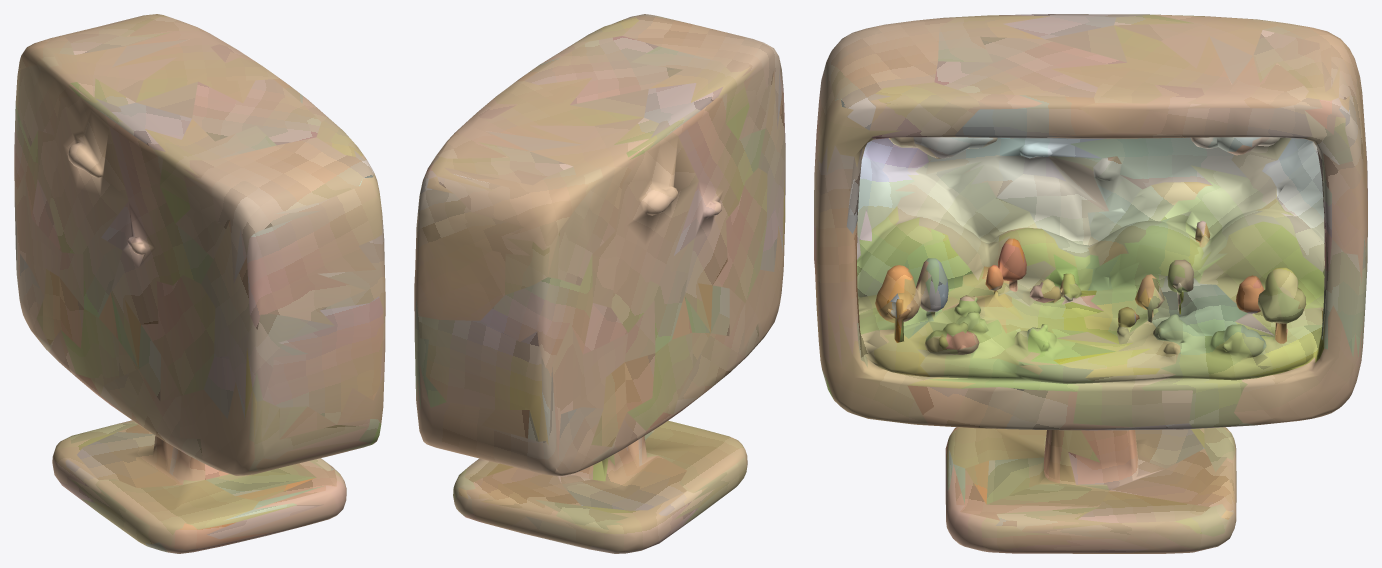
Rendered from JP_사물_s2_office_monitor.glb.
3 views of the same model, side by side, from view 1: azimuth 30°, elevation 25°; view 2: azimuth 150°, elevation 25°; view 3: azimuth 270°, elevation 25° (orthographic). The views are drawn at different scales.
Visible parts, largest first — view 1: tripo_node_d5ec6751-cbea-439b-92c2-5a07a2505e09; view 2: tripo_node_d5ec6751-cbea-439b-92c2-5a07a2505e09; view 3: tripo_node_d5ec6751-cbea-439b-92c2-5a07a2505e09.
Boxes of the visible parts, x1,y1,x2,y2 form: tripo_node_d5ec6751-cbea-439b-92c2-5a07a2505e09: (14,14,385,553); tripo_node_d5ec6751-cbea-439b-92c2-5a07a2505e09: (414,14,785,553); tripo_node_d5ec6751-cbea-439b-92c2-5a07a2505e09: (814,14,1367,553).
Size of the model in its own units: 0.4781 by 0.8943 by 0.9995.
Materials: 1 (1 with a texture image).
